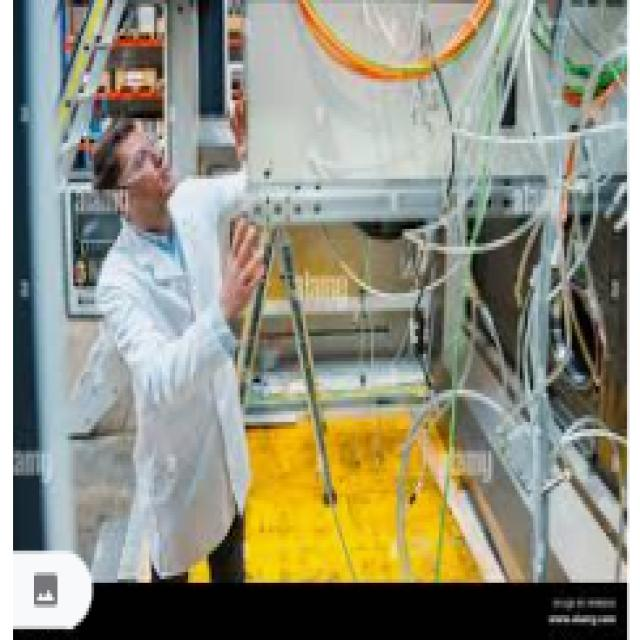glasses: (116, 138, 160, 179)
